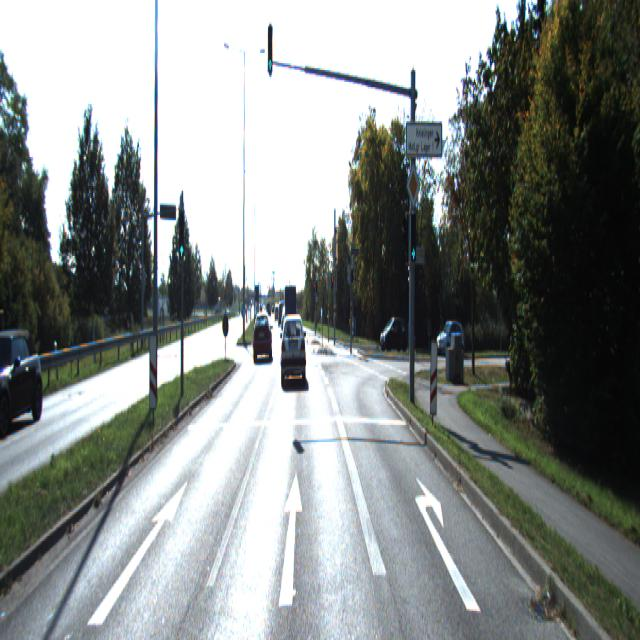Car: (0, 323, 45, 435), (281, 316, 307, 384), (436, 318, 466, 359), (252, 314, 274, 365), (380, 314, 408, 352), (284, 284, 298, 342)
